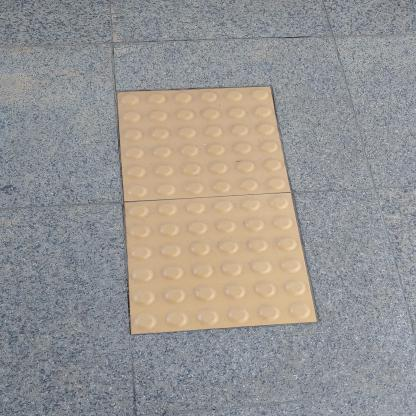podotacti: (104, 78, 330, 341)
